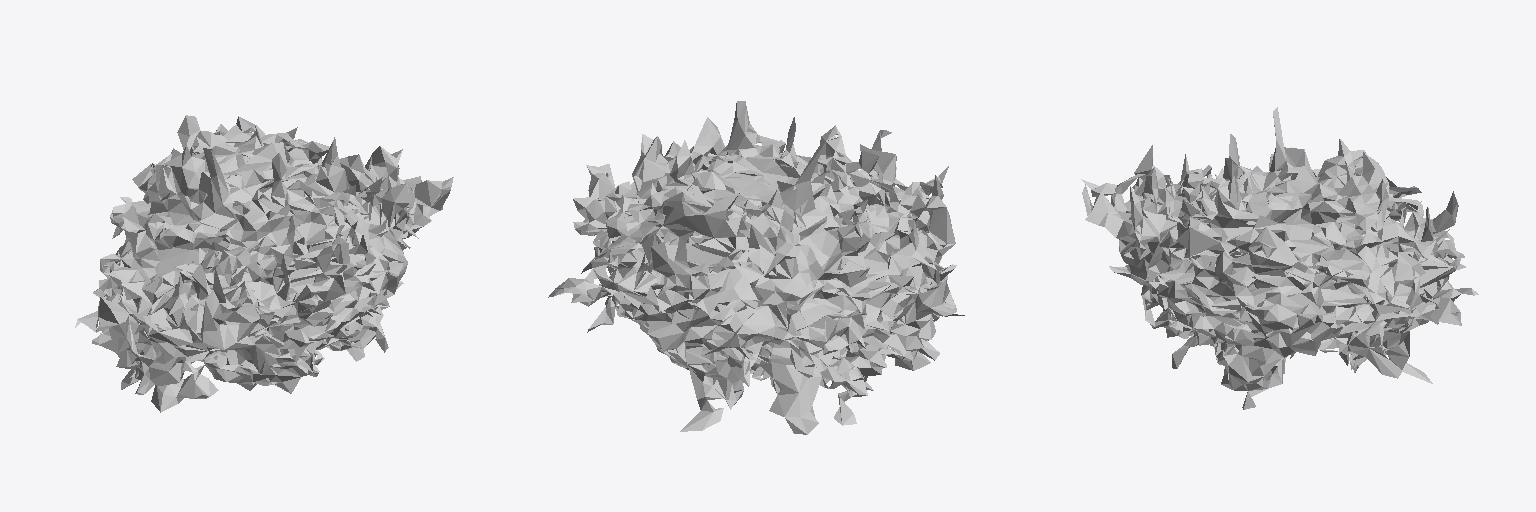
The model's file is 401d3fadce19_A_wild_shrub_min.obj.
3 views of the same model, side by side, from view 1: azimuth 30°, elevation 25°; view 2: azimuth 150°, elevation 25°; view 3: azimuth 270°, elevation 25° (orthographic).
Parts seen in each view (by area): view 1: mesh; view 2: mesh; view 3: mesh.
Part boxes in pixels (bbox=[...]): mesh: bbox=[75, 115, 453, 412]; mesh: bbox=[548, 101, 964, 434]; mesh: bbox=[1081, 107, 1478, 409].
Size of the model in its own units: 0.9998 by 0.6236 by 0.9133.